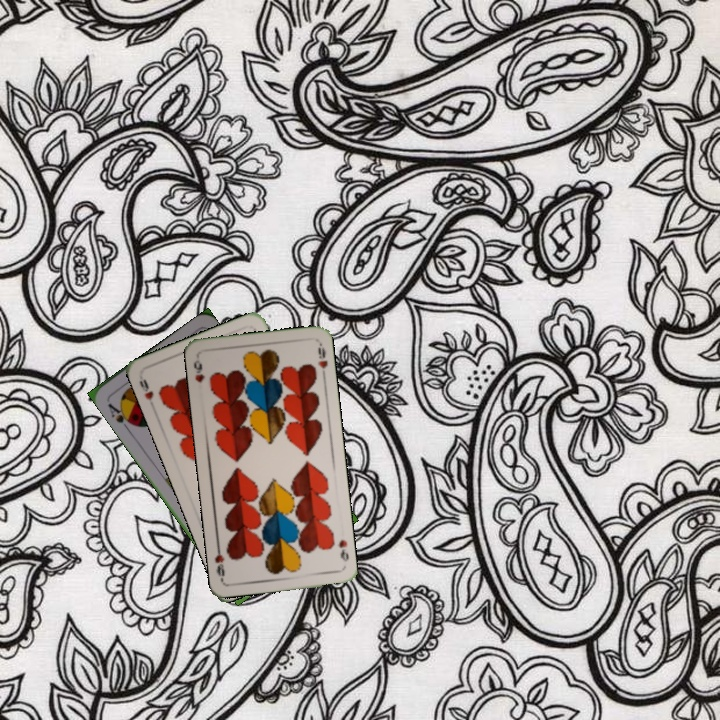H9: (135, 375, 156, 403), (189, 356, 208, 386), (334, 536, 351, 564)
SA: (104, 399, 137, 432)
